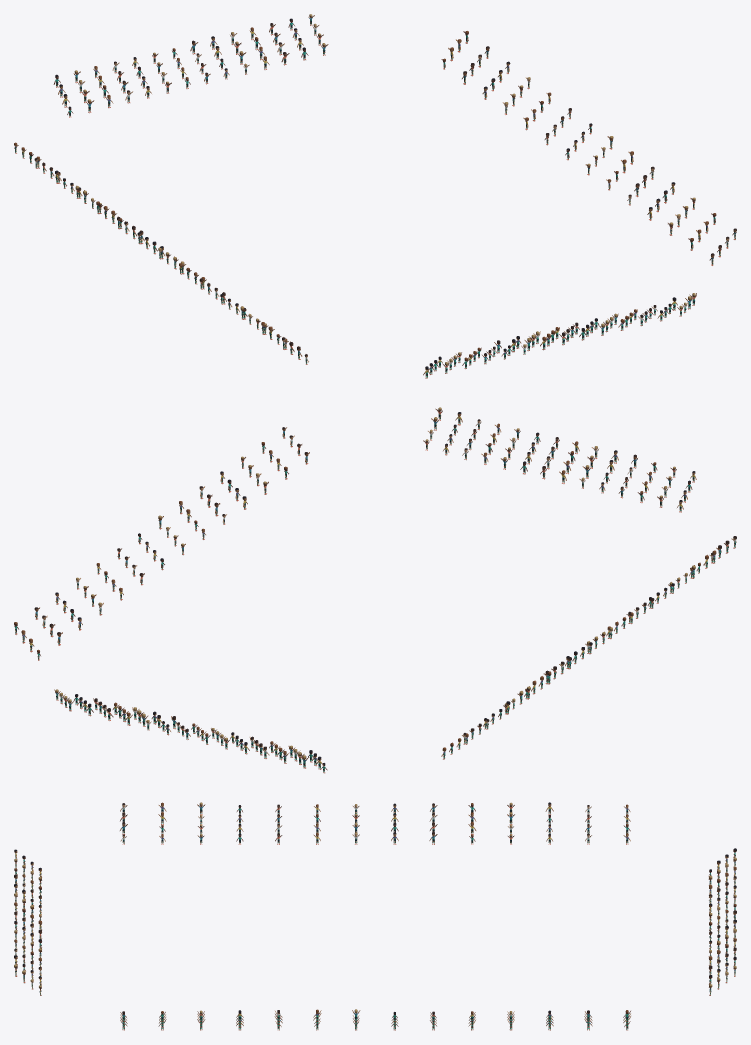
Rendered from crowd.glb.
The picture shows the model from 3 angles, top to bottom: view 1: azimuth 30°, elevation 25°; view 2: azimuth 150°, elevation 25°; view 3: azimuth 270°, elevation 25°; orthographic projection. The views are drawn at different scales.
Visible parts, largest first — view 1: Crowd; view 2: Crowd; view 3: Crowd.
Part boxes in pixels (left/top/right/bottom): Crowd: left=14, top=14, right=736, bottom=378; Crowd: left=14, top=407, right=736, bottom=773; Crowd: left=14, top=802, right=736, bottom=1030.
Size of the model in its own units: 81.48 by 5.68 by 119.
